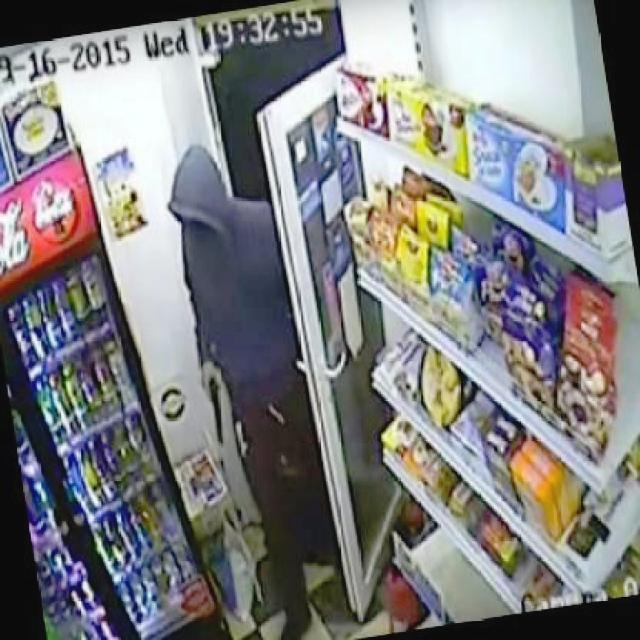Gun: (196, 375, 237, 445)
